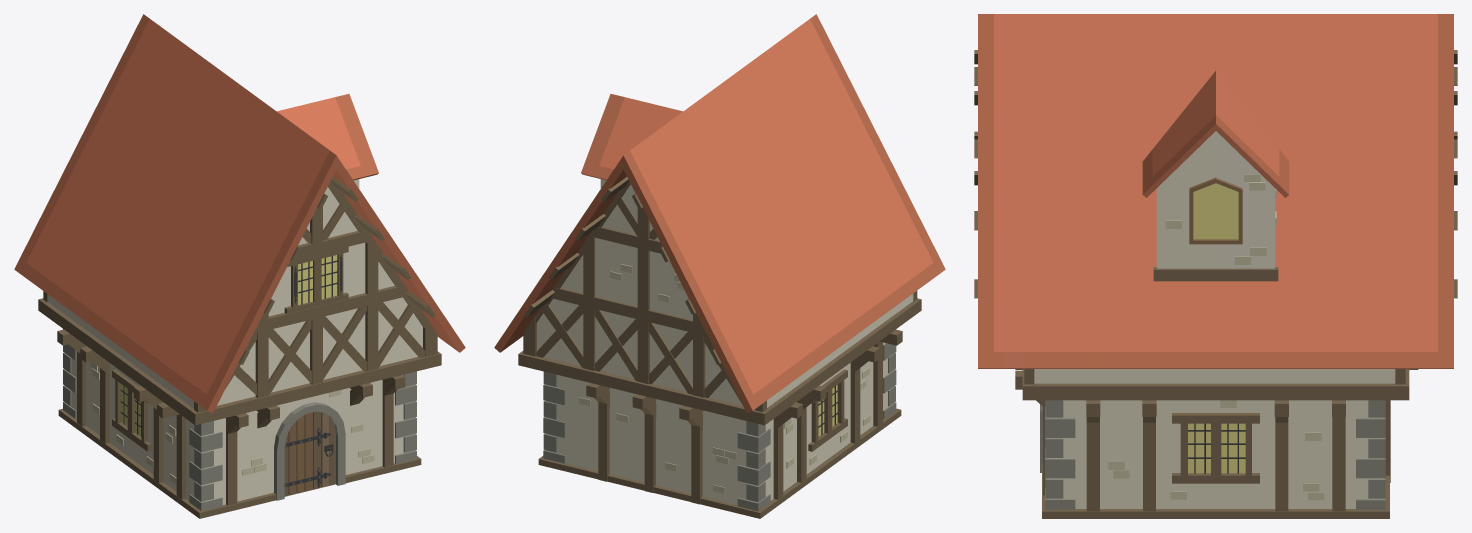
Rendered from House_5.fbx.
3 views of the same model, side by side, from view 1: azimuth 30°, elevation 25°; view 2: azimuth 150°, elevation 25°; view 3: azimuth 270°, elevation 25° (orthographic). The views are drawn at different scales.
Visible parts, largest first — view 1: House_5; view 2: House_5; view 3: House_5.
Part boxes in pixels (left/top/right/bottom): House_5: left=14, top=14, right=465, bottom=518; House_5: left=494, top=14, right=945, bottom=518; House_5: left=974, top=14, right=1457, bottom=518.
Bounding box in the file's own units: 116 × 152 × 152.
1 material, 1 textured.
